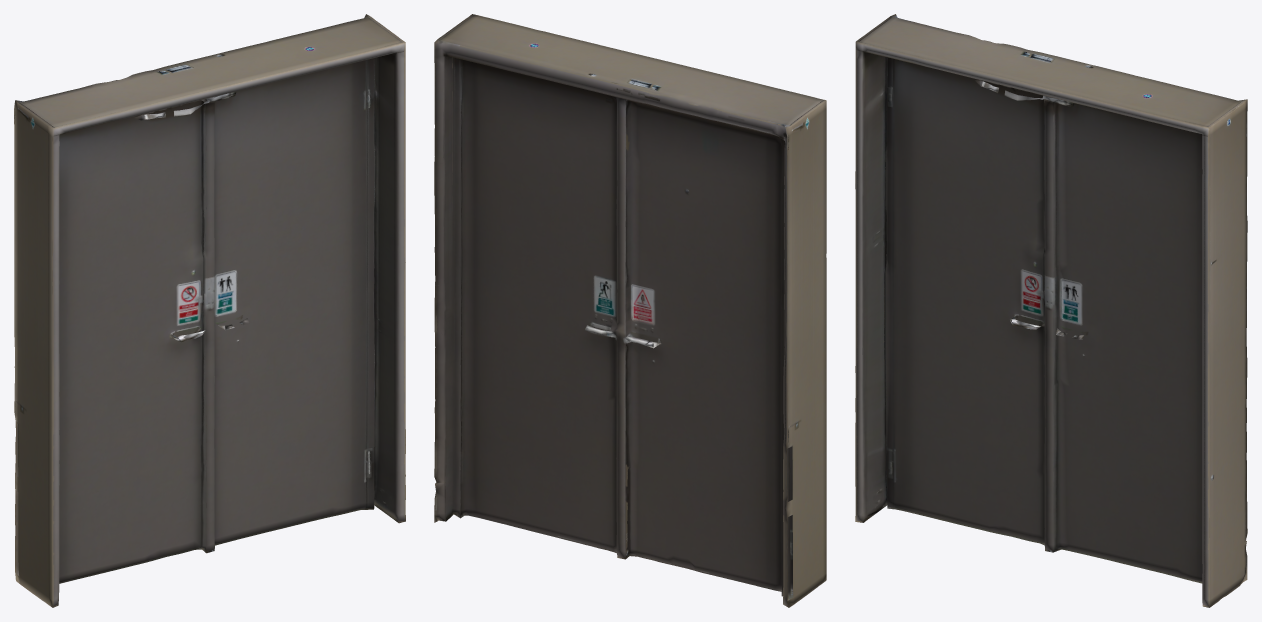
File: DoubleDoor.fbx
3 renders of one model, left to right at view 1: azimuth 30°, elevation 25°; view 2: azimuth 150°, elevation 25°; view 3: azimuth 330°, elevation 25°, orthographic.
Parts seen in each view (by area): view 1: Mesh1; view 2: Mesh1; view 3: Mesh1.
Part boxes in pixels (box(x1,y1,x2,y2)): Mesh1: box(14, 14, 405, 607); Mesh1: box(434, 14, 826, 607); Mesh1: box(855, 14, 1247, 607).
Size of the model in its own units: 155 by 200 by 29.64.
Materials: 1 (1 with a texture image).
